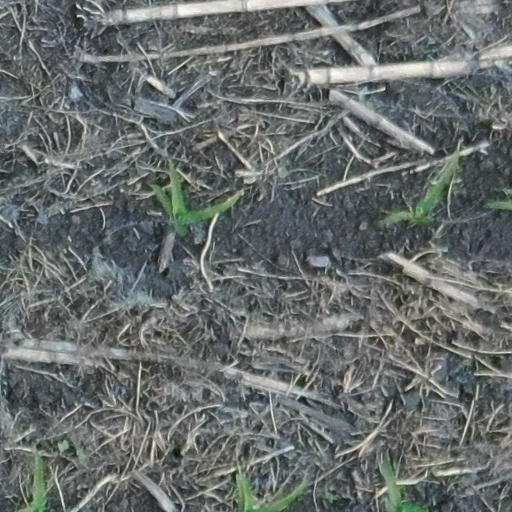planta: (145, 160, 239, 226), (380, 151, 460, 224)
